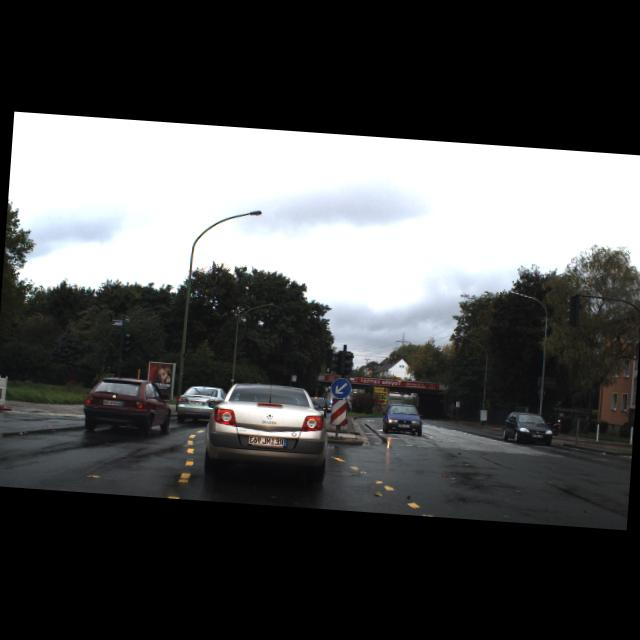mandatory: (329, 376, 352, 398)
